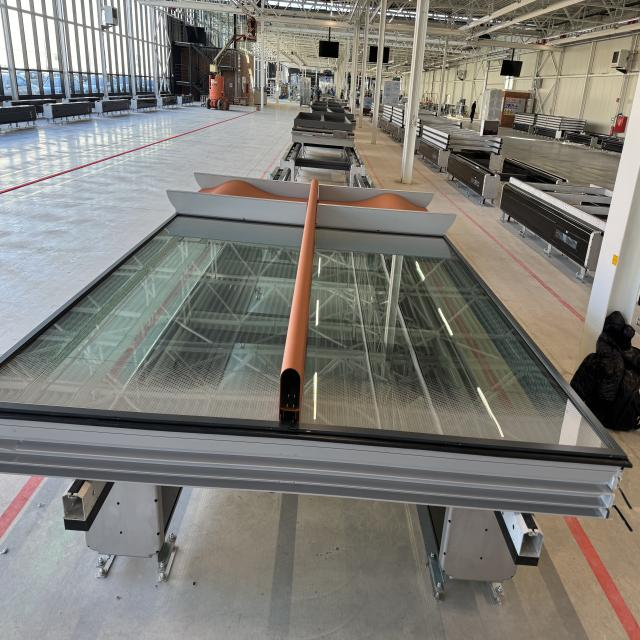ok: (1, 173, 626, 519)
